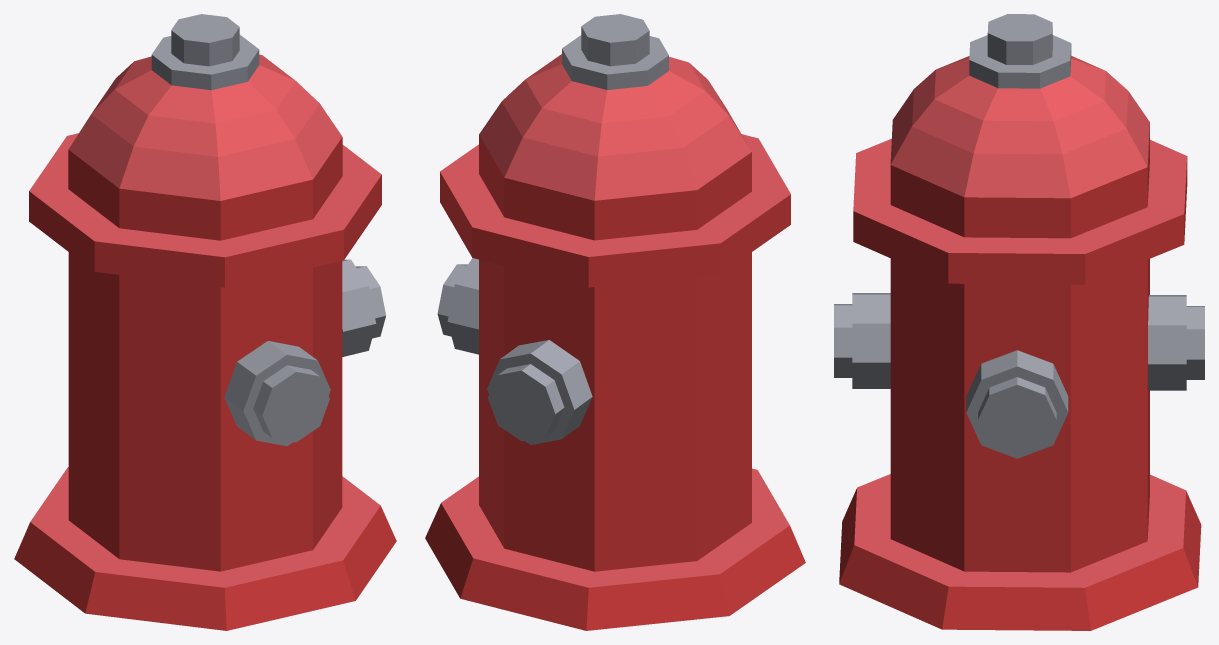
File: FireHydrant.fbx
3 views of the same model, side by side, from view 1: azimuth 30°, elevation 25°; view 2: azimuth 150°, elevation 25°; view 3: azimuth 270°, elevation 25° (orthographic).
Parts seen in each view (by area): view 1: Cylinder; view 2: Cylinder; view 3: Cylinder.
Part boxes in pixels (box(x1,y1,x2,y2)): Cylinder: box(14, 14, 396, 630); Cylinder: box(425, 14, 805, 630); Cylinder: box(834, 14, 1204, 630).
Size of the model in its own units: 264 by 418 by 266.
